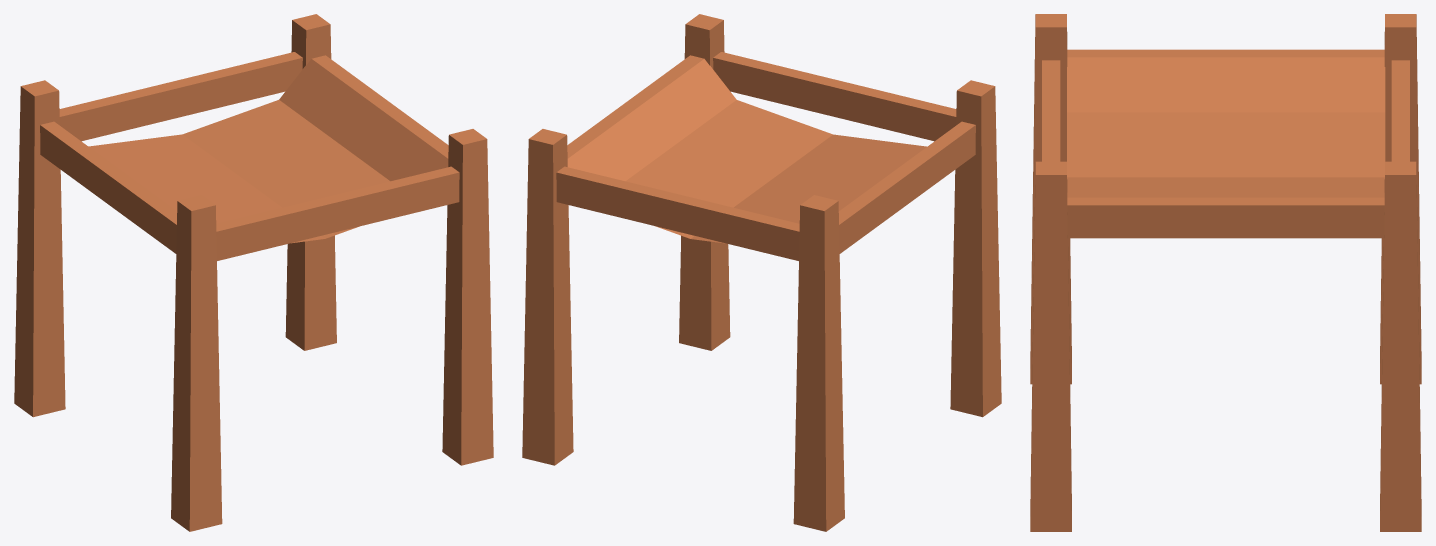
Rendered from structure-canvas.obj.
The picture shows the model from 3 angles, left to right: view 1: azimuth 30°, elevation 25°; view 2: azimuth 150°, elevation 25°; view 3: azimuth 270°, elevation 25°; orthographic projection. The views are drawn at different scales.
Bounding box in the file's own units: 0.5 × 0.5 × 0.5.
